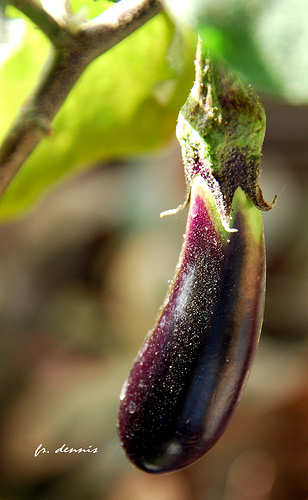eggplant: (118, 43, 268, 474)
